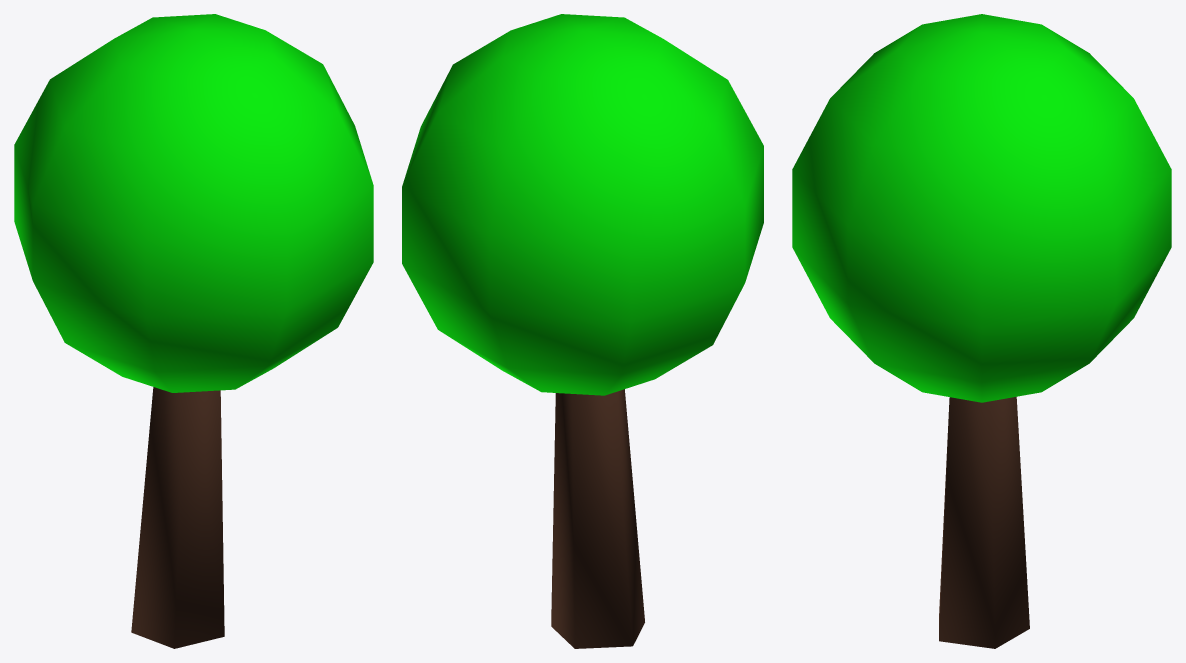
File: Tree.fbx
3 views of the same model, side by side, from view 1: azimuth 30°, elevation 25°; view 2: azimuth 150°, elevation 25°; view 3: azimuth 270°, elevation 25° (orthographic).
Parts seen in each view (by area): view 1: Cylinder; view 2: Cylinder; view 3: Cylinder.
Part boxes in pixels (x1,y1,x2,y2): Cylinder: (14, 14, 373, 648); Cylinder: (402, 14, 763, 648); Cylinder: (792, 14, 1171, 648).
Size of the model in its own units: 958 by 1685 by 958.
